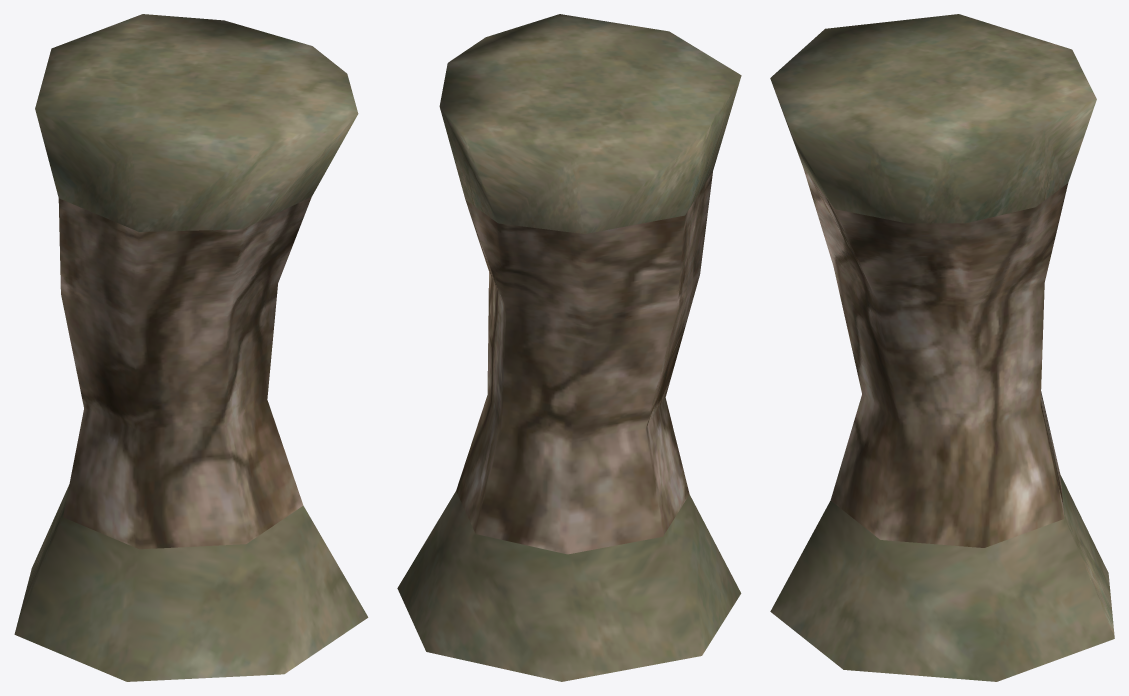
The model's file is EKH_CAVERNS_PS_CA_PLAT49484__GX.fbx.
3 renders of one model, left to right at view 1: azimuth 30°, elevation 25°; view 2: azimuth 150°, elevation 25°; view 3: azimuth 270°, elevation 25°, orthographic. The views are drawn at different scales.
Parts seen in each view (by area): view 1: EKH_CAVERNS_PS_CA_PLAT49484__GX; view 2: EKH_CAVERNS_PS_CA_PLAT49484__GX; view 3: EKH_CAVERNS_PS_CA_PLAT49484__GX.
Part boxes in pixels (x1,y1,x2,y2): EKH_CAVERNS_PS_CA_PLAT49484__GX: (14,14,368,681); EKH_CAVERNS_PS_CA_PLAT49484__GX: (397,14,741,681); EKH_CAVERNS_PS_CA_PLAT49484__GX: (770,14,1114,681).
Size of the model in its own units: 19584 by 32587 by 19276.
Materials: 2 (2 with a texture image).
